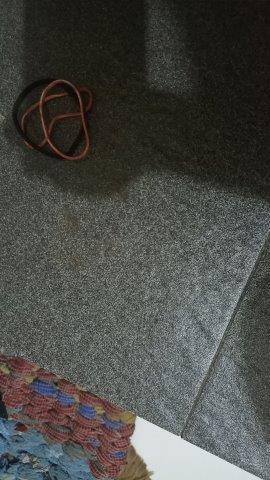karet: (11, 79, 93, 162)
